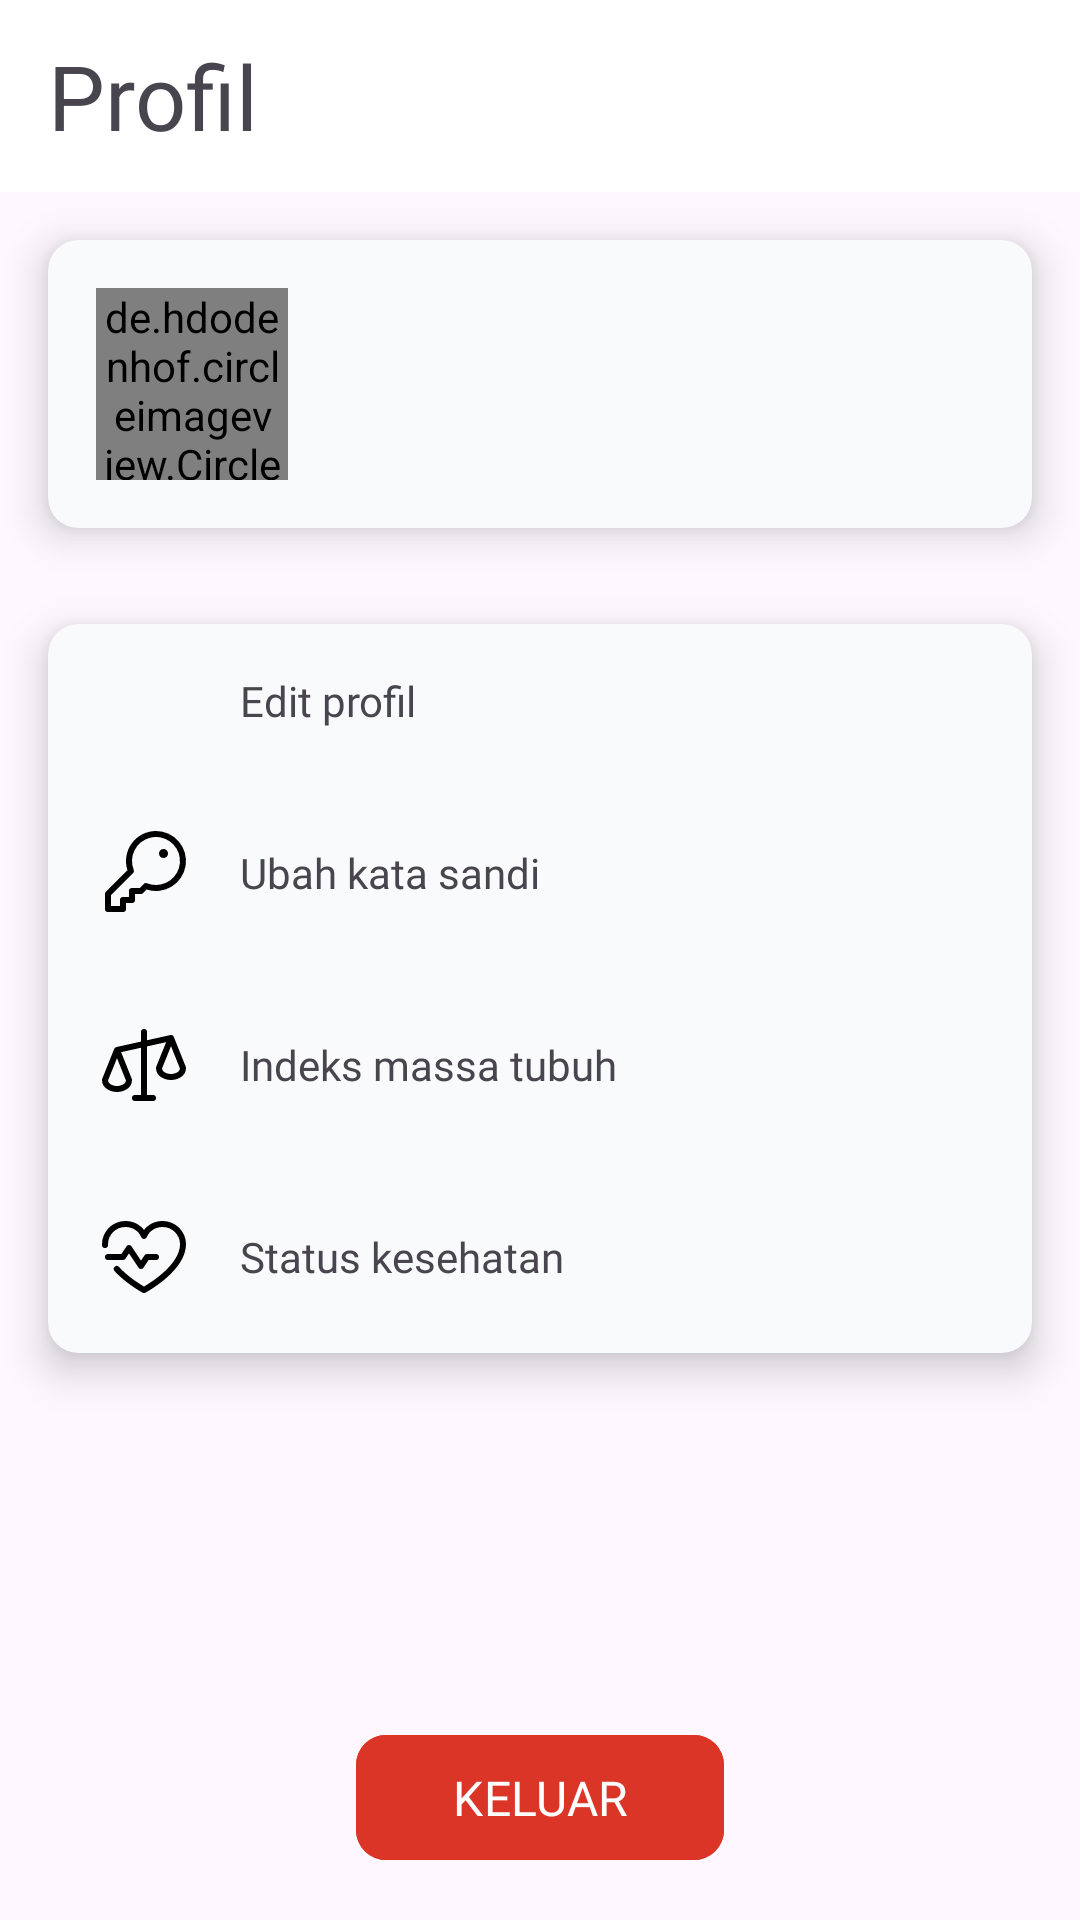

Icons on this 1080w x 1920h Android screen, each with its box as (x1, y1, x2, y2):
edit password: (105, 831, 186, 912)
